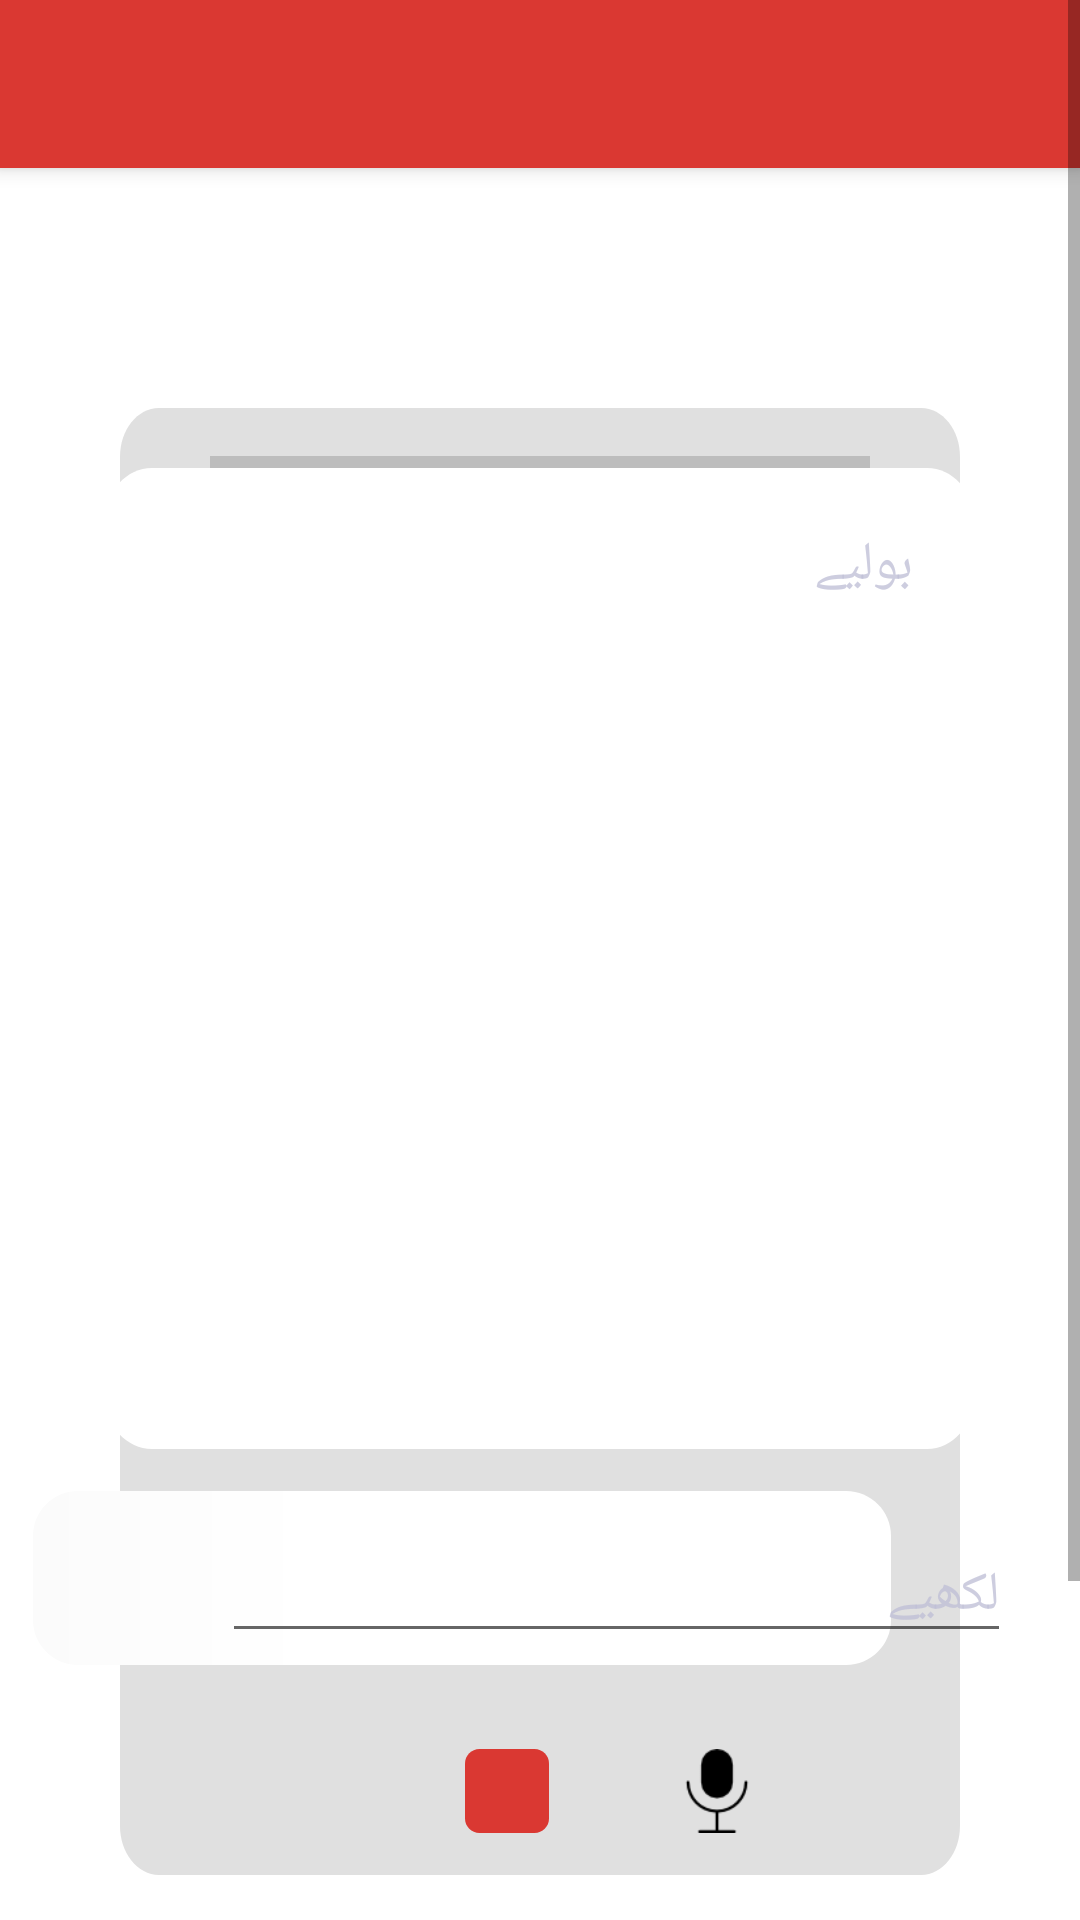

Where icons sit on this 1080 x 1920 app screen, as region(x1, y1, x2, y2):
mic: region(686, 1749, 748, 1833)
stop: region(465, 1749, 549, 1833)
